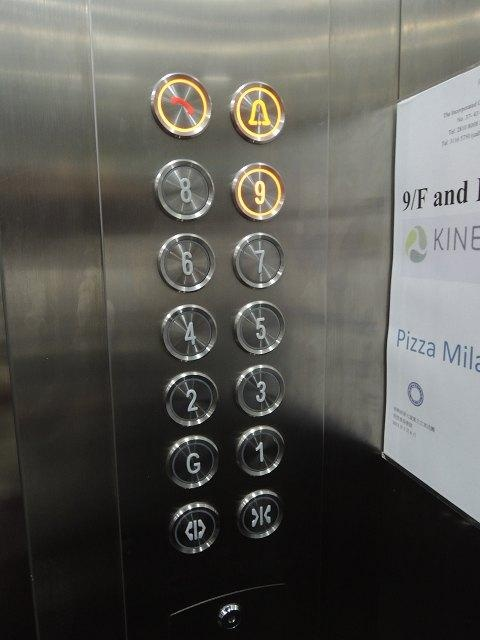1: (235, 425, 285, 476)
2: (164, 371, 218, 425)
3: (236, 365, 285, 416)
4: (161, 304, 217, 361)
5: (233, 299, 284, 354)
6: (158, 232, 216, 293)
7: (232, 231, 287, 290)
8: (154, 160, 215, 220)
9: (230, 162, 286, 222)
G: (165, 435, 220, 488)
alarm: (230, 80, 287, 143)
call: (150, 70, 212, 137)
close: (234, 489, 283, 540)
keyhole: (209, 599, 249, 633)
open: (167, 501, 221, 555)
